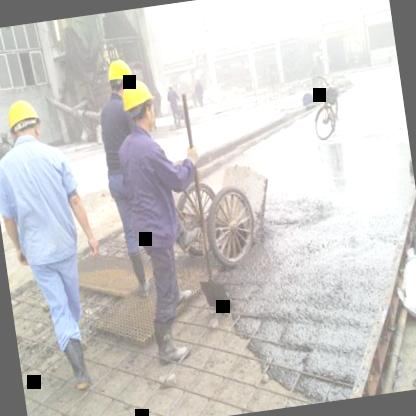helmet: (0, 92, 46, 149), (122, 77, 160, 134), (103, 56, 135, 98)
